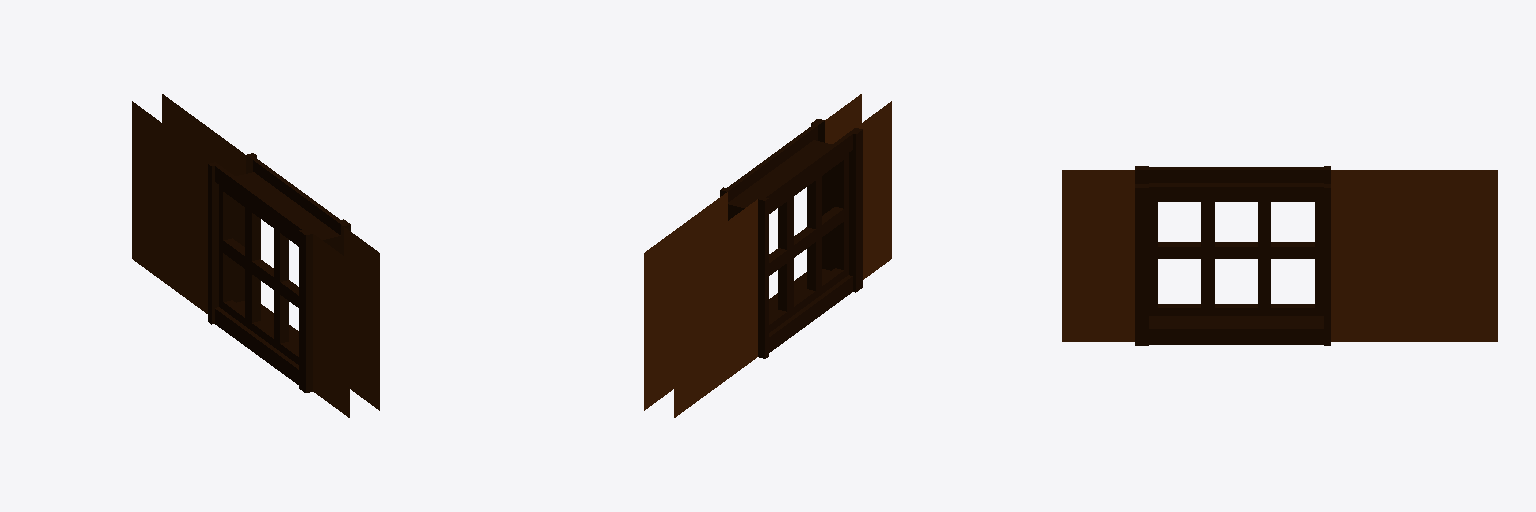
The model's file is HouseWindow.obj.
The picture shows the model from 3 angles: view 1: azimuth 30°, elevation 25°; view 2: azimuth 150°, elevation 25°; view 3: azimuth 270°, elevation 25°; orthographic projection.
Visible parts, largest first — view 1: Untitled.001_ID2; view 2: Untitled.001_ID2; view 3: Untitled.001_ID2.
Boxes of the visible parts, x1,y1,x2,y2 form: Untitled.001_ID2: [132, 94, 379, 417]; Untitled.001_ID2: [644, 94, 891, 417]; Untitled.001_ID2: [1062, 166, 1497, 345].
Bounding box in the file's own units: 0.3 × 1 × 2.5.